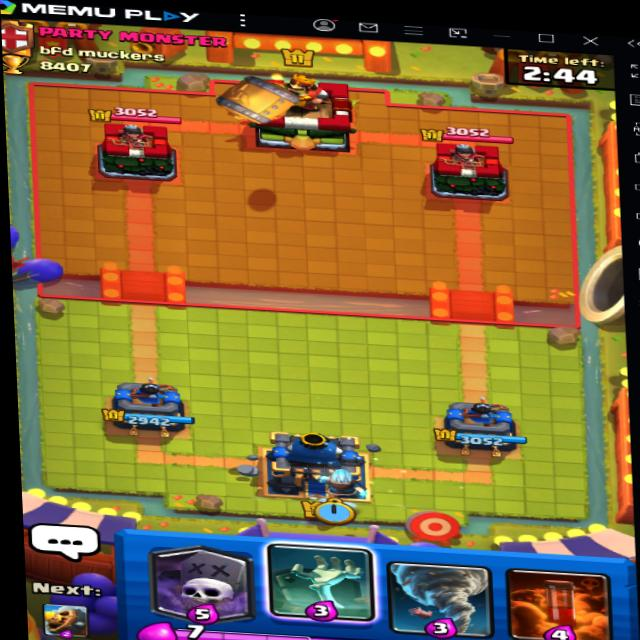goblin-barrel: (198, 70, 318, 139)
